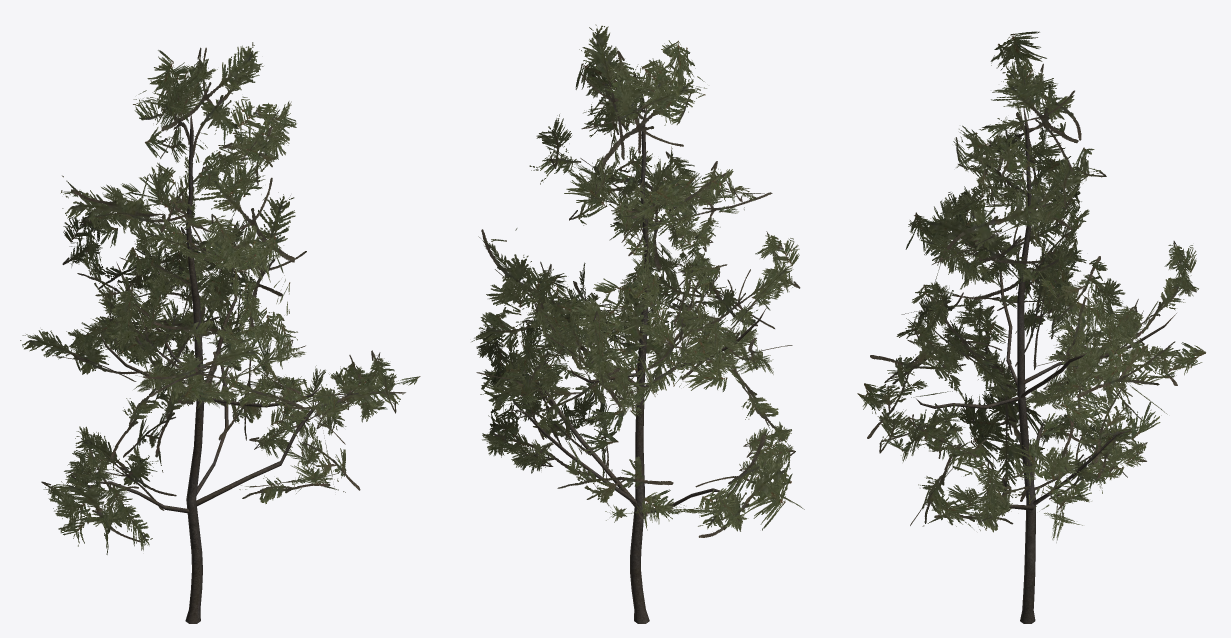
The picture shows the model from 3 angles, left to right: view 1: azimuth 30°, elevation 25°; view 2: azimuth 150°, elevation 25°; view 3: azimuth 270°, elevation 25°; orthographic projection.
Visible parts, largest first — view 1: pine_sapling_small__a_lod1; view 2: pine_sapling_small__a_lod1; view 3: pine_sapling_small__a_lod1.
Boxes of the visible parts, x1,y1,x2,y2 form: pine_sapling_small__a_lod1: (20, 42, 420, 623); pine_sapling_small__a_lod1: (471, 24, 804, 623); pine_sapling_small__a_lod1: (857, 31, 1205, 623).
Bounding box in the file's own units: 0.8465 × 1.31 × 0.7494.
2 materials, 2 textured.
